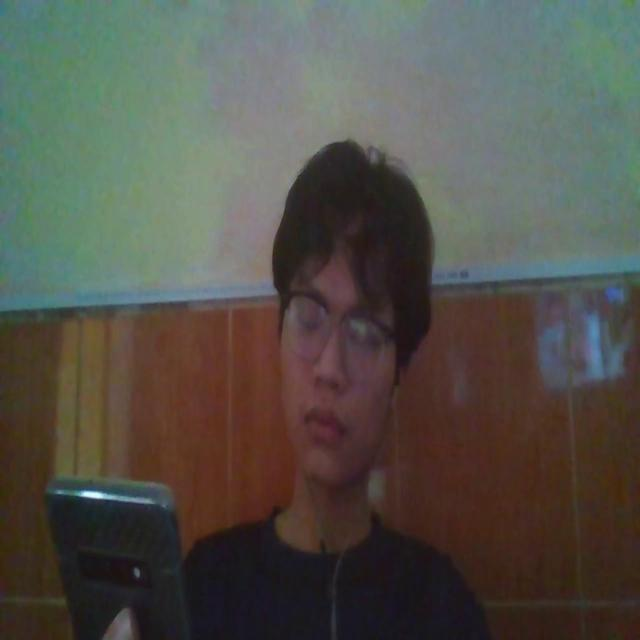phone: (48, 472, 185, 640)
student: (164, 130, 486, 640)
